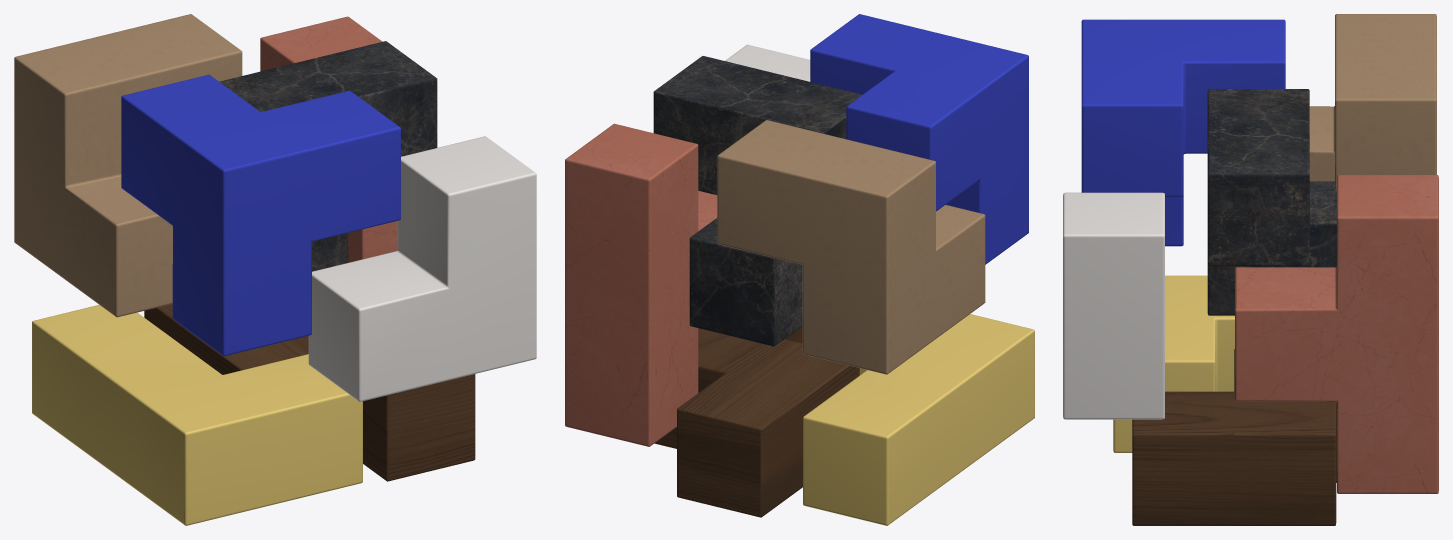
File: forma-blocks.glb
3 renders of one model, left to right at view 1: azimuth 30°, elevation 25°; view 2: azimuth 150°, elevation 25°; view 3: azimuth 270°, elevation 25°, orthographic. The views are drawn at different scales.
Visible parts, largest first — view 1: Block_7.001, Block_5.001, Block_2.001, Block_6.001, Block_4.001, Block_1.001, Block_3.001; view 2: Block_6.001, Block_3.001, Block_5.001, Block_7.001, Block_1.001, Block_4.001, Block_2.001; view 3: Block_3.001, Block_7.001, Block_4.001, Block_2.001, Block_1.001, Block_6.001, Block_5.001.
Part boxes in pixels (x1,y1,x2,y2): Block_7.001: (121, 74, 400, 356); Block_5.001: (32, 305, 362, 525); Block_2.001: (308, 136, 536, 401); Block_6.001: (14, 14, 242, 317); Block_4.001: (144, 304, 475, 481); Block_1.001: (219, 41, 437, 271); Block_3.001: (260, 16, 397, 262); Block_6.001: (717, 120, 985, 374); Block_3.001: (565, 123, 717, 446); Block_5.001: (803, 314, 1034, 525); Block_7.001: (810, 14, 1028, 264); Block_1.001: (653, 56, 862, 346); Block_4.001: (654, 326, 859, 517); Block_2.001: (725, 44, 810, 81); Block_3.001: (1235, 175, 1438, 493); Block_7.001: (1081, 19, 1285, 246); Block_4.001: (1132, 349, 1336, 525); Block_2.001: (1063, 192, 1164, 419); Block_1.001: (1207, 89, 1336, 315); Block_6.001: (1309, 14, 1436, 191); Block_5.001: (1113, 275, 1234, 452).
Bounding box in the file's own units: 2.52 × 2.69 × 2.46.
7 materials, 7 textured.
